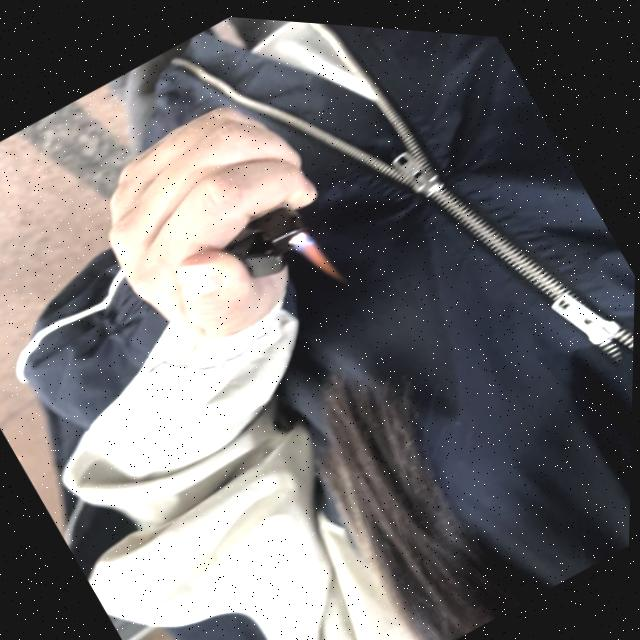Fire: (292, 225, 346, 288)
